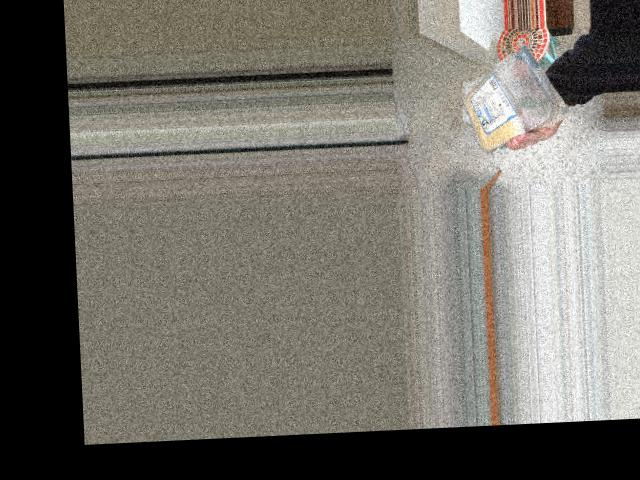cheese: (452, 42, 562, 140)
